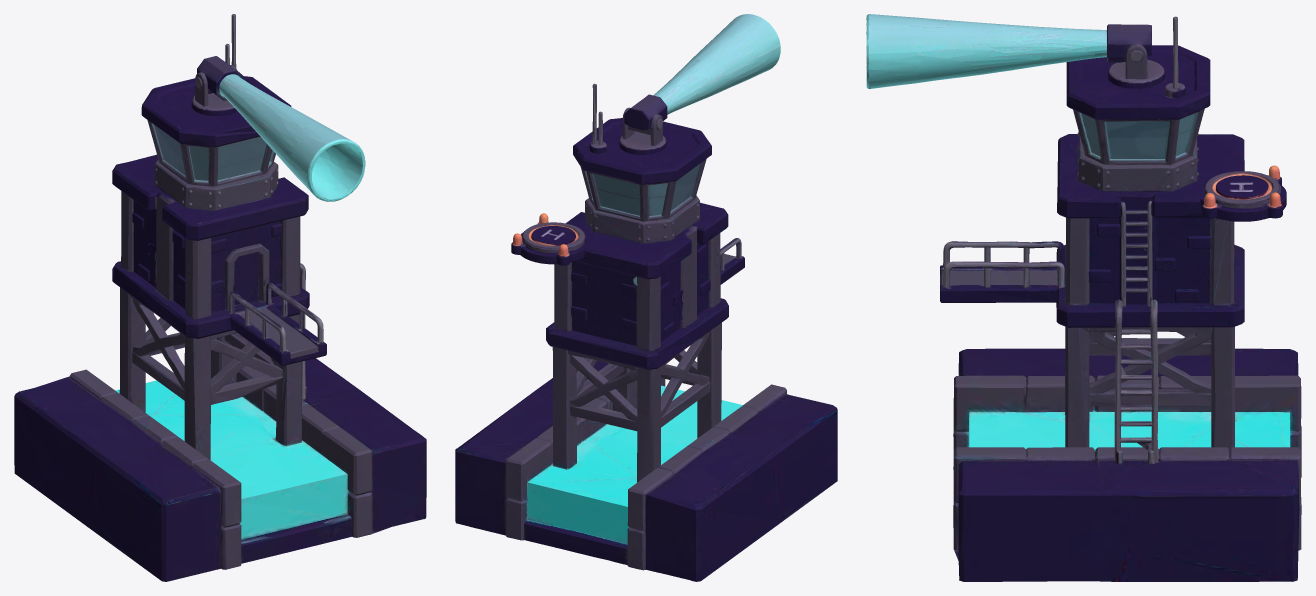
Rendered from canal-watch.glb.
The picture shows the model from 3 angles, left to right: view 1: azimuth 30°, elevation 25°; view 2: azimuth 150°, elevation 25°; view 3: azimuth 270°, elevation 25°; orthographic projection. The views are drawn at different scales.
Parts seen in each view (by area): view 1: output_unwrapped; view 2: output_unwrapped; view 3: output_unwrapped.
Part boxes in pixels (bbox=[...]): output_unwrapped: bbox=[14, 14, 426, 581]; output_unwrapped: bbox=[455, 14, 837, 581]; output_unwrapped: bbox=[866, 14, 1301, 581].
Size of the model in its own units: 1.16 by 1.9 by 1.47.
Materials: 1 (1 with a texture image).
